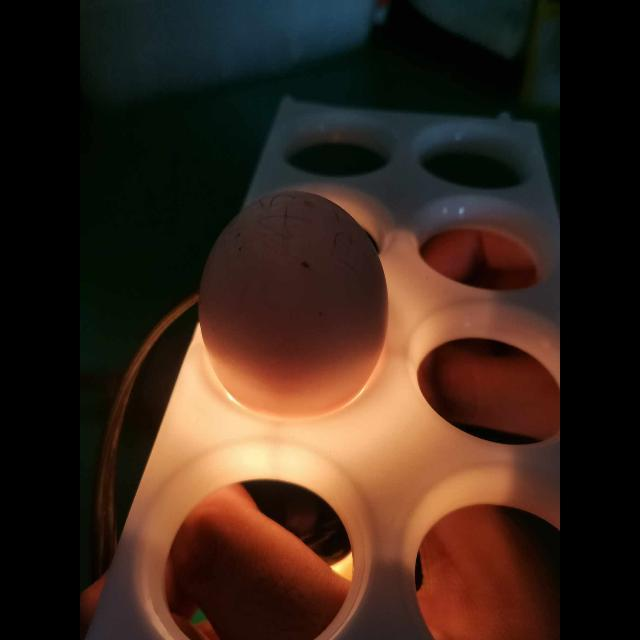Fertile: (200, 184, 390, 420)
